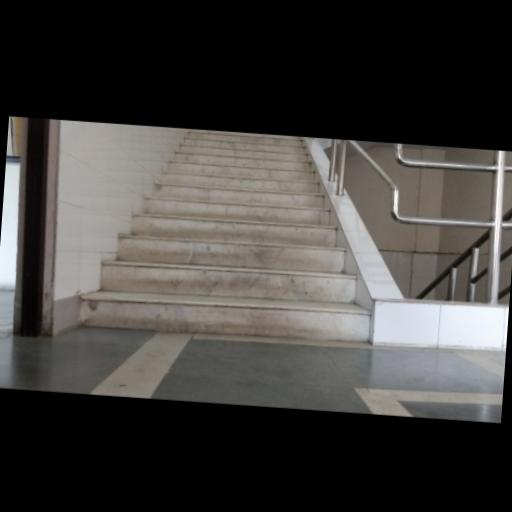stairs: (80, 130, 369, 341)
